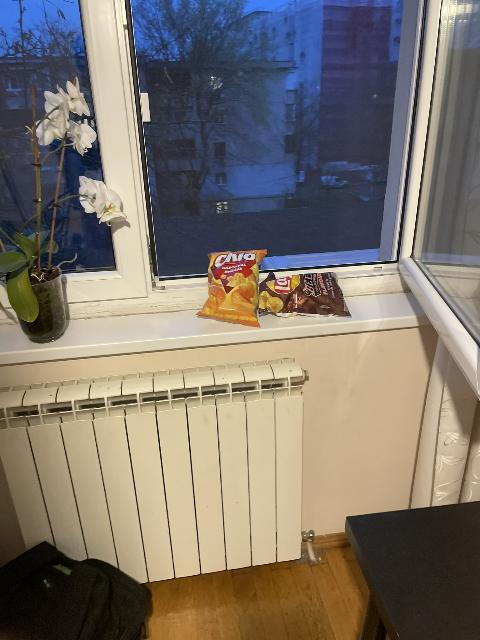Chio Cascaval 125g: (196, 249, 268, 328)
Lays Beef Grilled Ribs 125g: (258, 270, 348, 319)
